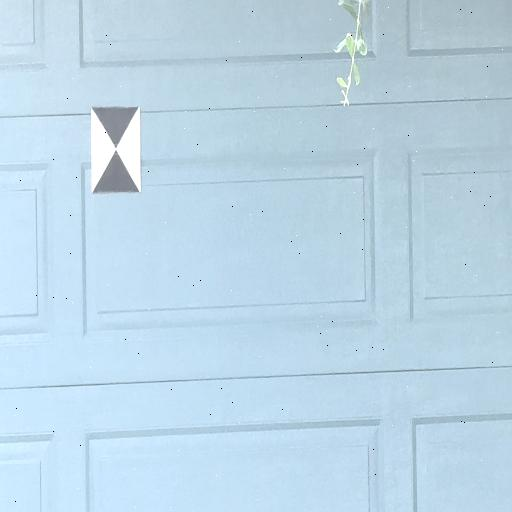target: (91, 108, 142, 192)
